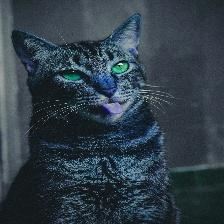kedo: (12, 15, 178, 224)
